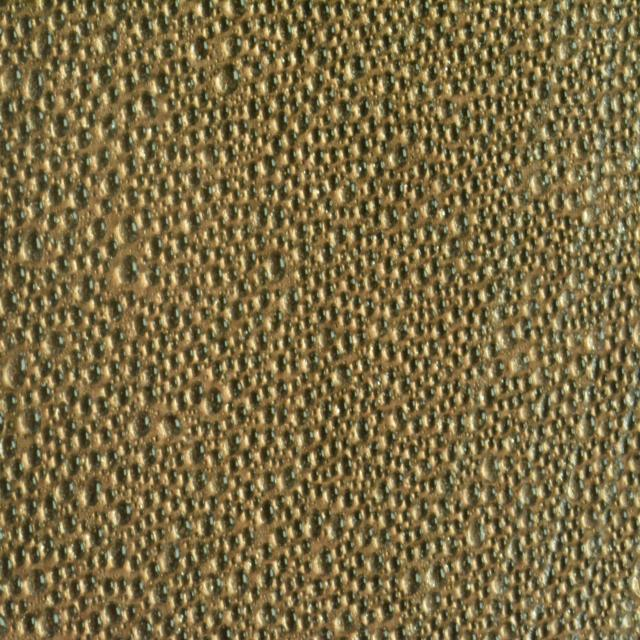dr: (6, 351, 28, 389), (24, 224, 44, 264), (118, 253, 140, 286), (39, 607, 61, 639), (217, 63, 240, 93), (118, 213, 139, 245), (229, 565, 249, 598), (138, 90, 160, 119), (22, 404, 42, 435), (36, 24, 53, 60), (163, 539, 181, 573), (267, 250, 286, 282), (28, 66, 44, 103), (100, 23, 119, 54), (3, 64, 24, 92), (426, 560, 446, 589), (132, 409, 152, 437), (530, 169, 550, 197), (491, 570, 512, 596), (25, 570, 47, 594), (0, 287, 18, 316), (109, 539, 127, 568), (482, 454, 500, 483), (162, 411, 182, 437), (174, 513, 194, 539), (498, 325, 518, 351), (468, 521, 487, 548), (85, 476, 102, 506), (103, 168, 121, 196), (205, 388, 223, 416), (404, 566, 422, 594), (389, 141, 407, 169), (587, 529, 604, 558), (520, 482, 538, 509), (203, 573, 224, 596), (307, 508, 322, 540), (317, 546, 334, 574), (51, 112, 70, 137), (46, 330, 65, 355), (104, 600, 123, 625), (100, 113, 118, 139), (114, 500, 132, 526), (0, 548, 13, 584), (470, 406, 488, 432), (72, 182, 89, 209), (224, 33, 243, 57), (58, 478, 77, 502), (587, 326, 606, 350), (42, 491, 57, 521), (135, 617, 154, 640), (559, 38, 578, 61), (200, 509, 215, 538), (29, 104, 47, 128), (90, 216, 108, 240), (164, 302, 180, 329), (259, 602, 277, 626), (439, 469, 455, 496), (392, 404, 408, 431), (278, 15, 293, 43), (284, 284, 299, 312), (509, 536, 524, 564), (18, 13, 34, 39), (138, 13, 154, 39), (155, 70, 171, 96), (79, 273, 95, 299), (108, 297, 124, 323), (10, 262, 26, 288), (568, 474, 584, 500), (350, 52, 366, 78), (211, 471, 229, 494), (333, 363, 351, 386), (0, 95, 14, 124), (194, 34, 209, 61), (280, 465, 296, 490), (1, 434, 17, 459), (581, 412, 597, 437), (339, 177, 355, 202), (258, 471, 277, 492), (423, 591, 442, 612), (201, 144, 219, 166), (254, 200, 268, 228), (260, 561, 274, 589), (62, 206, 79, 229), (330, 512, 345, 538), (383, 203, 398, 229), (174, 262, 190, 286), (190, 438, 206, 462), (153, 580, 169, 604), (338, 609, 354, 633), (464, 481, 480, 505), (271, 203, 285, 230), (454, 210, 468, 237), (27, 443, 42, 468), (191, 599, 206, 624), (333, 222, 348, 247), (225, 432, 242, 454), (525, 274, 542, 296), (545, 0, 562, 22), (308, 69, 325, 91), (260, 501, 276, 524), (66, 453, 82, 476), (160, 614, 176, 637), (376, 527, 392, 550), (356, 416, 370, 442), (48, 183, 63, 207), (189, 380, 204, 404), (88, 610, 103, 634), (359, 523, 374, 547), (565, 188, 580, 212), (604, 154, 622, 174), (574, 136, 589, 160), (602, 94, 614, 124), (403, 119, 418, 143), (97, 64, 113, 86), (76, 152, 92, 174), (94, 394, 110, 416), (22, 495, 38, 517), (8, 574, 24, 596), (21, 612, 37, 634), (413, 498, 429, 520), (582, 507, 598, 529), (602, 481, 618, 503), (20, 517, 33, 544), (366, 268, 379, 295), (458, 102, 471, 129), (17, 119, 31, 144), (296, 109, 310, 134), (458, 550, 472, 575), (0, 475, 12, 504), (66, 30, 81, 53), (136, 61, 151, 84), (34, 169, 49, 192), (142, 442, 157, 465), (3, 502, 18, 525), (535, 78, 550, 101), (1, 392, 18, 412), (592, 3, 609, 23), (149, 234, 162, 260), (284, 606, 297, 632), (501, 52, 514, 78), (76, 128, 92, 149), (159, 39, 175, 60), (168, 111, 184, 132), (134, 312, 148, 336), (210, 263, 224, 287), (86, 362, 102, 383), (269, 308, 283, 332), (40, 534, 54, 558), (610, 456, 624, 480), (539, 391, 551, 419), (452, 412, 466, 436), (534, 365, 550, 386), (592, 353, 604, 381), (550, 188, 564, 212), (320, 326, 336, 347), (381, 69, 395, 93), (125, 185, 140, 207), (254, 329, 269, 351), (111, 326, 126, 348), (126, 356, 141, 378), (481, 384, 496, 406), (338, 454, 353, 476), (518, 316, 533, 338), (414, 263, 429, 285), (561, 15, 576, 37), (528, 30, 543, 52), (412, 79, 427, 101), (411, 23, 426, 45), (316, 1, 331, 23), (10, 230, 23, 255), (568, 165, 585, 184), (123, 99, 137, 122), (156, 12, 170, 35), (185, 104, 199, 127), (297, 239, 311, 262), (146, 263, 160, 286), (68, 304, 82, 327), (192, 468, 206, 491), (507, 429, 521, 452), (336, 98, 350, 121), (446, 235, 460, 258), (111, 0, 127, 20), (263, 72, 279, 92), (62, 514, 78, 534), (554, 365, 570, 385), (584, 203, 600, 223), (438, 99, 454, 119), (142, 384, 157, 405), (130, 577, 145, 598), (368, 551, 383, 572), (437, 496, 452, 517), (570, 270, 585, 291), (346, 1, 361, 22), (96, 144, 109, 168), (139, 205, 152, 229), (270, 134, 283, 158), (245, 248, 258, 272), (262, 402, 275, 426), (275, 403, 288, 427), (195, 539, 208, 563), (573, 354, 586, 378), (340, 329, 353, 353), (52, 8, 66, 30), (122, 70, 136, 92), (48, 150, 62, 172), (60, 232, 74, 254), (62, 417, 76, 439), (106, 447, 120, 469), (11, 459, 25, 481), (90, 524, 104, 546), (520, 507, 534, 529), (521, 400, 535, 422), (376, 482, 390, 504), (356, 134, 370, 156), (378, 96, 392, 118), (528, 102, 542, 124), (314, 45, 328, 67), (229, 0, 247, 17), (585, 183, 602, 201), (436, 174, 453, 192), (30, 138, 46, 157), (446, 621, 462, 640), (632, 558, 640, 596), (556, 345, 572, 364), (30, 197, 45, 217), (119, 132, 134, 152), (223, 144, 238, 164), (186, 167, 201, 187), (64, 385, 79, 405), (77, 426, 90, 449), (555, 309, 568, 332), (262, 154, 276, 175), (199, 182, 213, 203), (294, 405, 308, 426), (220, 512, 234, 533), (140, 487, 154, 508), (552, 613, 566, 634), (614, 506, 628, 527), (620, 488, 634, 509), (319, 399, 333, 420), (305, 351, 319, 372), (615, 45, 629, 66), (214, 316, 230, 334), (176, 388, 188, 412), (302, 388, 314, 412), (313, 443, 325, 467), (604, 286, 616, 310), (560, 289, 576, 307), (624, 190, 640, 208), (452, 0, 470, 16), (64, 56, 77, 78), (0, 138, 13, 160), (247, 98, 260, 120), (89, 246, 102, 268), (248, 389, 261, 411), (116, 383, 129, 405), (215, 548, 228, 570), (96, 547, 109, 569), (543, 564, 556, 586), (321, 240, 334, 262), (575, 2, 588, 24), (143, 140, 158, 159), (483, 548, 498, 567), (406, 59, 421, 78), (321, 23, 336, 42), (4, 27, 18, 47), (78, 17, 92, 37), (157, 213, 171, 233), (56, 253, 70, 273), (11, 208, 25, 228), (187, 284, 201, 304), (274, 378, 288, 398), (228, 377, 242, 397), (241, 480, 255, 500), (208, 448, 222, 468), (470, 598, 484, 618), (382, 508, 396, 528), (490, 358, 504, 378), (397, 374, 411, 394), (461, 250, 475, 270), (452, 146, 466, 166), (418, 538, 430, 561), (0, 613, 11, 638), (63, 86, 76, 107), (11, 181, 24, 202), (187, 211, 200, 232), (88, 448, 101, 469), (72, 537, 85, 558), (311, 577, 324, 598), (381, 600, 394, 621), (501, 598, 514, 619), (500, 484, 513, 505), (585, 382, 598, 403), (627, 387, 640, 408), (518, 145, 531, 166), (506, 26, 519, 47), (414, 0, 430, 17), (501, 622, 516, 640), (530, 342, 545, 360), (1, 332, 15, 351), (38, 384, 52, 403), (350, 223, 364, 242), (354, 157, 368, 176), (448, 76, 462, 95), (0, 191, 12, 213), (258, 286, 270, 308), (79, 393, 91, 415), (291, 518, 303, 540), (14, 544, 26, 566), (619, 432, 631, 454), (446, 439, 457, 463), (426, 406, 438, 428), (326, 484, 338, 506), (371, 336, 382, 360), (614, 92, 626, 114), (356, 96, 368, 118), (392, 179, 404, 201), (406, 206, 418, 228), (426, 194, 437, 218), (78, 78, 91, 98), (106, 85, 119, 105), (197, 88, 210, 108), (156, 178, 169, 198), (220, 121, 233, 141), (165, 140, 178, 160), (217, 175, 230, 195), (31, 323, 44, 343), (39, 356, 52, 376), (105, 238, 118, 258), (189, 323, 202, 343), (230, 300, 243, 320), (281, 429, 294, 449), (242, 526, 255, 546), (98, 425, 111, 445), (147, 560, 160, 580), (2, 598, 15, 618), (445, 535, 458, 555), (572, 540, 585, 560), (472, 435, 485, 455), (458, 384, 471, 404), (384, 340, 397, 360), (486, 340, 499, 360), (627, 346, 640, 366), (552, 254, 565, 274), (535, 140, 548, 160), (435, 319, 448, 339), (450, 303, 463, 323), (321, 86, 334, 106), (443, 263, 456, 283), (422, 135, 435, 155), (513, 352, 529, 368), (90, 341, 105, 358), (276, 110, 288, 131), (247, 160, 259, 181), (236, 278, 248, 299), (299, 450, 311, 471), (83, 572, 97, 590), (101, 578, 115, 596), (49, 588, 63, 606), (373, 626, 391, 640), (552, 532, 564, 553), (624, 612, 638, 630), (600, 416, 612, 437), (563, 397, 577, 415), (368, 369, 382, 387), (616, 342, 628, 363), (603, 205, 615, 226), (614, 115, 628, 133), (484, 282, 496, 303), (388, 297, 400, 318), (401, 289, 413, 310), (366, 247, 378, 268), (576, 48, 590, 66), (424, 64, 438, 82), (0, 213, 10, 238), (124, 155, 137, 174), (99, 197, 112, 216), (43, 266, 56, 285), (253, 231, 266, 250), (295, 220, 308, 239), (240, 449, 253, 468), (426, 513, 439, 532), (489, 598, 502, 617), (519, 457, 532, 476), (618, 264, 631, 283), (381, 121, 394, 140), (116, 464, 127, 486), (277, 552, 288, 574), (16, 45, 28, 65), (44, 90, 56, 110), (294, 45, 306, 65), (296, 19, 308, 39), (176, 232, 188, 252), (46, 288, 58, 308), (98, 318, 110, 338), (41, 425, 53, 445), (302, 427, 314, 447), (51, 366, 63, 386), (129, 462, 141, 482), (24, 472, 36, 492), (172, 588, 184, 608), (230, 602, 242, 622), (356, 595, 368, 615), (538, 620, 550, 640), (483, 485, 498, 501), (592, 596, 604, 616), (573, 566, 585, 586), (410, 414, 422, 434), (520, 373, 532, 393), (568, 332, 583, 348), (494, 304, 509, 320), (603, 175, 618, 191), (591, 149, 606, 165), (375, 316, 387, 336), (396, 320, 408, 340), (477, 306, 489, 326), (434, 297, 446, 317), (416, 158, 428, 178), (544, 119, 556, 139), (396, 36, 408, 56), (82, 0, 96, 17), (201, 1, 215, 18), (217, 15, 231, 32), (156, 485, 170, 502), (301, 1, 314, 19), (251, 310, 264, 328), (68, 348, 81, 366), (263, 427, 276, 445), (190, 566, 203, 584), (370, 574, 383, 592), (533, 603, 546, 621), (498, 416, 511, 434), (341, 489, 354, 507), (554, 158, 567, 176), (435, 224, 448, 242), (183, 342, 194, 363), (236, 404, 247, 425), (212, 360, 223, 381), (525, 546, 536, 567), (625, 410, 636, 431), (328, 436, 339, 457), (357, 197, 368, 218), (619, 21, 630, 42), (300, 85, 312, 104), (275, 526, 287, 545), (459, 579, 471, 598), (584, 579, 596, 598), (392, 469, 404, 488), (335, 398, 347, 417), (468, 346, 480, 365), (628, 212, 640, 231), (627, 155, 639, 174), (364, 298, 376, 317), (494, 76, 506, 95), (554, 65, 566, 84), (484, 59, 496, 78), (515, 3, 527, 22), (356, 624, 371, 639), (217, 624, 231, 640), (613, 232, 627, 248), (476, 134, 490, 150), (614, 74, 628, 90), (530, 4, 544, 20), (274, 92, 287, 109), (13, 327, 26, 344), (383, 430, 396, 447), (328, 346, 341, 363), (396, 262, 409, 279), (382, 255, 395, 272), (15, 93, 26, 113), (146, 363, 157, 383), (69, 579, 80, 599), (574, 444, 584, 466), (630, 274, 640, 296), (618, 135, 629, 155), (323, 280, 334, 300), (352, 256, 363, 276), (373, 156, 384, 176), (429, 255, 440, 275), (449, 122, 460, 142), (457, 43, 468, 63), (6, 160, 18, 178), (46, 212, 58, 230), (286, 129, 298, 147), (168, 352, 180, 370), (196, 343, 208, 361), (217, 336, 229, 354), (290, 192, 302, 210), (125, 289, 137, 307), (275, 353, 287, 371), (116, 576, 128, 594), (154, 504, 166, 522), (184, 496, 196, 514), (151, 608, 163, 626), (211, 608, 223, 626), (389, 555, 401, 573), (391, 490, 403, 508), (558, 555, 570, 573), (533, 464, 545, 482), (385, 367, 397, 385), (427, 337, 439, 355), (592, 293, 604, 311), (615, 282, 627, 300), (548, 296, 560, 314), (344, 274, 356, 292), (312, 148, 324, 166), (335, 120, 347, 138), (458, 188, 470, 206), (469, 175, 481, 193), (511, 170, 523, 188), (434, 120, 446, 138), (366, 5, 378, 23), (258, 265, 268, 286), (418, 459, 432, 474), (526, 300, 540, 315), (608, 264, 618, 285), (610, 190, 624, 205), (277, 181, 288, 200), (205, 326, 216, 345), (130, 553, 141, 572), (227, 531, 238, 550), (513, 499, 524, 518), (577, 610, 588, 629), (560, 498, 571, 517), (603, 352, 614, 371), (531, 198, 542, 217), (166, 0, 179, 16), (145, 47, 158, 63), (195, 68, 208, 84), (536, 526, 549, 542), (552, 386, 565, 402), (382, 449, 395, 465), (451, 352, 464, 368), (619, 174, 632, 190), (524, 126, 537, 142), (583, 85, 596, 101), (75, 252, 87, 269), (188, 129, 200, 146), (251, 61, 263, 78), (236, 118, 248, 135), (290, 172, 302, 189), (108, 359, 120, 376), (259, 445, 271, 462), (491, 518, 503, 535), (602, 508, 614, 525), (408, 356, 420, 373), (614, 395, 626, 412), (623, 294, 635, 311), (580, 251, 592, 268), (519, 210, 531, 227), (552, 137, 564, 154), (355, 329, 367, 346), (354, 312, 366, 329), (413, 182, 425, 199), (476, 208, 488, 225), (626, 61, 638, 78), (610, 6, 622, 23), (58, 400, 68, 420), (238, 352, 248, 372), (248, 553, 258, 573), (606, 536, 616, 556), (519, 246, 529, 266), (342, 307, 352, 327), (423, 220, 433, 240), (630, 16, 640, 36), (1, 48, 12, 66), (171, 188, 182, 206), (289, 97, 300, 115), (300, 142, 311, 160), (163, 244, 174, 262), (199, 246, 210, 264), (241, 201, 252, 219), (246, 276, 257, 294), (228, 456, 239, 474), (300, 478, 311, 496), (354, 549, 365, 567), (362, 502, 373, 520), (588, 561, 599, 579), (573, 589, 584, 607), (629, 453, 640, 471), (588, 483, 599, 501), (532, 441, 543, 459), (324, 377, 335, 395), (400, 344, 411, 362), (545, 328, 556, 346), (511, 228, 522, 246), (507, 208, 518, 226), (593, 165, 604, 183), (312, 218, 323, 236), (309, 94, 320, 112), (366, 176, 377, 194), (406, 228, 417, 246), (472, 114, 483, 132), (495, 96, 506, 114), (594, 69, 605, 87), (581, 22, 592, 40), (432, 20, 443, 38), (488, 502, 502, 516), (394, 625, 407, 640), (584, 278, 597, 293), (516, 190, 529, 205), (604, 25, 617, 40), (78, 60, 90, 76), (179, 58, 191, 74), (178, 146, 190, 162), (280, 165, 292, 181), (226, 204, 238, 220), (32, 296, 44, 312), (263, 181, 275, 197), (240, 323, 252, 339), (56, 308, 68, 324), (247, 428, 259, 444), (169, 496, 181, 512), (110, 413, 122, 429), (64, 562, 76, 578), (74, 618, 86, 634), (548, 420, 560, 436), (508, 375, 520, 391), (540, 310, 552, 326), (512, 270, 524, 286), (616, 216, 628, 232), (596, 134, 608, 150), (595, 120, 607, 136), (304, 331, 316, 347), (323, 126, 335, 142), (604, 60, 616, 76), (606, 40, 618, 56), (430, 82, 442, 98), (435, 1, 447, 17), (145, 529, 155, 548), (57, 543, 67, 562), (311, 125, 321, 144), (50, 56, 61, 73), (16, 147, 27, 164), (121, 49, 132, 66), (206, 108, 217, 125), (256, 13, 267, 30), (259, 38, 270, 55), (219, 103, 230, 120), (158, 331, 169, 348), (182, 309, 193, 326), (49, 467, 60, 484), (30, 547, 41, 564), (261, 543, 272, 560), (461, 438, 472, 455), (564, 424, 575, 441), (440, 413, 451, 430), (545, 211, 556, 228), (373, 229, 384, 246), (372, 194, 383, 211), (447, 10, 458, 27), (357, 23, 368, 40), (381, 33, 392, 50), (175, 626, 189, 639), (318, 626, 331, 640), (86, 109, 96, 127), (91, 92, 101, 110), (60, 140, 70, 158), (281, 50, 291, 68), (152, 159, 164, 174), (20, 310, 30, 328), (252, 350, 262, 368), (296, 265, 308, 280), (153, 314, 163, 332), (23, 390, 35, 405), (105, 487, 115, 505), (52, 565, 62, 583), (356, 574, 366, 592), (352, 509, 362, 527), (484, 630, 502, 640), (550, 585, 560, 603), (511, 584, 521, 602), (541, 480, 551, 498), (542, 229, 552, 247), (316, 306, 326, 324), (490, 258, 500, 276), (461, 287, 471, 305), (312, 269, 322, 287), (366, 115, 376, 133), (486, 114, 496, 132), (526, 70, 536, 88), (557, 89, 569, 104), (63, 172, 74, 188), (136, 123, 147, 139), (183, 77, 194, 93), (204, 22, 215, 38), (80, 236, 91, 252), (148, 124, 159, 140), (275, 232, 286, 248), (71, 366, 82, 382), (200, 421, 211, 437), (167, 468, 178, 484), (67, 604, 78, 620), (301, 539, 312, 555), (474, 553, 485, 569), (452, 519, 463, 535), (545, 504, 556, 520), (535, 424, 546, 440), (434, 433, 445, 449), (382, 387, 393, 403), (361, 382, 372, 398), (358, 356, 369, 372), (612, 304, 623, 320), (501, 286, 512, 302), (475, 326, 486, 342), (475, 265, 486, 281), (328, 146, 339, 162), (466, 77, 477, 93), (333, 1, 344, 17), (98, 275, 108, 292), (50, 521, 60, 538), (184, 551, 194, 568), (284, 576, 294, 593), (295, 570, 305, 587), (345, 588, 355, 605), (484, 612, 494, 629), (413, 525, 423, 542), (531, 574, 541, 591), (428, 475, 438, 492), (408, 472, 418, 489), (614, 247, 624, 264), (498, 225, 508, 242), (472, 289, 482, 306), (387, 232, 397, 249), (508, 145, 518, 162), (464, 21, 474, 38), (362, 37, 372, 54), (424, 386, 436, 400), (134, 46, 145, 61), (240, 222, 251, 237), (25, 280, 36, 295), (216, 294, 227, 309), (78, 596, 89, 611), (126, 605, 137, 620), (557, 516, 568, 531), (498, 377, 509, 392), (361, 463, 372, 478), (347, 388, 358, 403), (421, 356, 432, 371), (441, 341, 452, 356), (566, 379, 577, 394), (537, 251, 548, 266), (581, 226, 592, 241), (627, 104, 638, 119), (503, 115, 514, 130), (575, 102, 586, 117), (515, 608, 524, 626), (606, 594, 615, 612), (74, 103, 84, 119), (171, 209, 181, 225), (172, 168, 182, 184), (248, 34, 258, 50), (262, 104, 272, 120), (286, 148, 296, 164), (160, 286, 170, 302), (206, 225, 216, 241), (226, 268, 236, 284), (0, 239, 8, 259), (145, 338, 155, 354), (88, 310, 98, 326), (104, 381, 114, 397), (232, 330, 242, 346), (208, 495, 218, 511), (292, 322, 302, 338), (290, 358, 300, 374), (275, 493, 285, 509), (155, 525, 165, 541), (54, 450, 64, 466), (8, 525, 18, 541), (134, 518, 144, 534), (180, 570, 190, 586), (291, 490, 301, 506), (85, 554, 95, 570), (330, 593, 340, 609), (334, 573, 344, 589), (346, 566, 356, 582), (430, 616, 440, 632), (461, 630, 477, 640), (433, 537, 443, 553), (457, 456, 467, 472), (512, 469, 522, 485), (504, 454, 514, 470), (564, 576, 574, 592), (596, 456, 606, 472), (408, 442, 418, 458), (451, 378, 461, 394), (318, 424, 328, 440), (543, 281, 553, 297), (506, 253, 516, 269), (328, 304, 338, 320), (463, 325, 473, 341), (465, 308, 475, 324), (310, 288, 320, 304), (347, 83, 357, 99), (418, 243, 428, 259), (432, 280, 442, 296), (484, 227, 494, 243), (508, 128, 518, 144), (552, 104, 562, 120), (572, 117, 582, 133), (628, 88, 638, 104), (477, 33, 487, 49), (488, 0, 498, 16), (443, 32, 453, 48), (64, 1, 76, 14), (528, 626, 540, 639), (240, 20, 251, 34), (223, 252, 234, 266), (0, 525, 7, 547), (411, 618, 422, 632), (481, 570, 492, 584), (526, 237, 537, 251), (470, 235, 481, 249), (565, 76, 576, 90), (547, 28, 558, 42), (268, 19, 277, 36), (511, 519, 520, 536), (598, 439, 607, 456), (369, 441, 378, 458), (547, 349, 556, 366), (372, 210, 381, 227), (632, 174, 640, 193), (24, 164, 34, 179), (168, 59, 178, 74), (144, 188, 154, 203), (203, 126, 213, 141), (280, 70, 290, 85), (155, 349, 165, 364), (211, 421, 221, 436), (140, 547, 150, 562), (32, 348, 42, 363), (14, 486, 24, 501), (186, 587, 196, 602), (366, 609, 376, 624), (403, 528, 413, 543), (523, 530, 533, 545), (598, 567, 608, 582), (583, 463, 593, 478), (314, 483, 324, 498), (358, 398, 368, 413), (609, 380, 619, 395), (614, 365, 624, 380), (635, 316, 640, 346), (574, 299, 584, 314), (592, 224, 602, 239), (414, 322, 424, 337), (416, 304, 426, 319), (339, 291, 349, 306), (316, 182, 326, 197), (328, 173, 338, 188), (378, 139, 388, 154), (498, 243, 508, 258), (441, 204, 451, 219), (582, 115, 592, 130), (590, 102, 600, 117), (584, 66, 594, 81), (544, 45, 554, 60), (514, 49, 524, 64), (424, 36, 434, 51), (282, 0, 297, 10), (39, 0, 55, 9), (248, 183, 257, 199), (227, 225, 236, 241), (70, 328, 79, 344), (176, 452, 185, 468), (405, 546, 414, 562), (441, 380, 450, 396), (609, 334, 618, 350), (625, 322, 633, 340), (572, 238, 584, 250), (496, 276, 505, 292), (352, 295, 361, 311), (350, 120, 359, 136), (381, 179, 390, 195), (428, 162, 437, 178), (480, 78, 489, 94), (486, 44, 495, 60), (383, 6, 392, 22), (401, 18, 410, 34), (264, 1, 275, 14), (44, 312, 55, 325), (545, 437, 556, 450), (556, 330, 567, 343), (97, 0, 107, 14), (186, 12, 196, 26), (260, 132, 270, 146), (186, 196, 196, 210), (147, 300, 157, 314), (163, 273, 173, 287), (217, 216, 227, 230), (191, 362, 201, 376), (78, 338, 88, 352), (85, 326, 95, 340), (199, 307, 209, 321), (180, 484, 190, 498), (104, 625, 114, 639), (18, 599, 28, 613), (178, 609, 188, 623), (320, 610, 330, 624), (344, 539, 354, 553), (394, 541, 404, 555), (401, 509, 411, 523), (498, 536, 508, 550), (604, 630, 618, 640), (612, 615, 622, 629), (625, 596, 635, 610), (608, 578, 618, 592), (628, 534, 638, 548), (629, 516, 639, 530), (434, 451, 444, 465), (340, 436, 350, 450), (533, 327, 543, 341), (576, 388, 586, 402), (633, 367, 640, 387), (333, 263, 343, 277), (489, 212, 499, 226), (496, 198, 506, 212), (434, 140, 444, 154), (480, 166, 490, 180), (484, 95, 494, 109), (570, 90, 580, 104), (398, 76, 408, 90), (305, 33, 315, 47), (368, 54, 378, 68), (624, 368, 632, 385), (506, 190, 514, 207), (516, 80, 524, 97), (125, 15, 134, 30), (109, 51, 118, 66), (141, 161, 150, 176), (249, 128, 258, 143), (303, 183, 312, 198), (130, 339, 139, 354), (90, 418, 99, 433), (117, 428, 126, 443), (258, 625, 267, 640), (301, 613, 310, 628), (561, 594, 570, 609), (513, 569, 522, 584), (406, 397, 415, 412), (375, 409, 384, 424), (397, 242, 406, 257), (475, 151, 484, 166), (520, 97, 529, 112), (561, 115, 570, 130), (604, 76, 613, 91), (337, 72, 346, 87), (266, 52, 277, 64), (458, 612, 469, 624), (524, 595, 535, 607), (475, 363, 486, 375), (634, 138, 640, 160), (563, 0, 575, 11), (166, 98, 176, 111), (36, 467, 46, 480), (142, 470, 152, 483), (250, 587, 260, 600), (388, 575, 398, 588), (552, 406, 562, 419), (490, 410, 500, 423), (393, 456, 403, 469), (444, 365, 454, 378), (464, 368, 474, 381), (320, 470, 330, 483), (349, 444, 359, 457), (628, 238, 638, 251), (556, 229, 566, 242), (514, 65, 524, 78), (492, 27, 502, 40), (208, 539, 216, 555), (608, 558, 616, 574), (322, 112, 330, 128), (457, 172, 465, 188), (425, 119, 433, 135), (610, 0, 626, 8), (5, 10, 14, 24), (84, 43, 93, 57), (241, 53, 250, 67), (237, 139, 246, 153), (146, 172, 155, 186), (232, 188, 241, 202), (102, 258, 111, 272), (215, 246, 224, 260), (242, 374, 251, 388), (118, 347, 127, 361), (131, 380, 140, 394), (180, 370, 189, 384), (283, 319, 292, 333), (303, 316, 312, 330), (302, 300, 311, 314), (230, 487, 239, 501), (123, 440, 132, 454), (161, 444, 170, 458), (181, 469, 190, 483), (70, 499, 79, 513), (284, 506, 293, 520), (274, 587, 283, 601), (309, 599, 318, 613), (390, 590, 399, 604), (439, 608, 448, 622), (455, 596, 464, 610), (473, 578, 482, 592), (588, 629, 602, 638), (597, 582, 606, 596), (559, 468, 568, 482), (403, 458, 412, 472), (438, 398, 447, 412), (357, 490, 366, 504), (310, 468, 319, 482), (375, 465, 384, 479), (315, 384, 324, 398), (605, 398, 614, 412), (578, 314, 587, 328), (592, 262, 601, 276), (620, 200, 629, 214), (608, 139, 617, 153), (586, 129, 595, 143), (323, 266, 332, 280), (415, 289, 424, 303), (338, 205, 347, 219), (342, 144, 351, 158), (489, 174, 498, 188), (502, 162, 511, 176), (497, 41, 506, 55), (499, 14, 508, 28), (329, 46, 338, 60), (59, 282, 70, 293), (130, 33, 140, 45), (172, 87, 182, 99), (249, 80, 257, 95), (202, 206, 210, 221), (46, 404, 56, 416), (262, 385, 270, 400), (283, 333, 291, 348), (291, 377, 299, 392), (235, 502, 243, 517), (52, 436, 62, 448), (334, 543, 344, 555), (437, 625, 445, 640), (548, 551, 558, 563), (626, 470, 634, 485), (634, 429, 640, 449), (558, 441, 566, 456), (496, 436, 504, 451), (330, 462, 338, 477), (602, 228, 612, 240), (562, 215, 572, 227), (340, 248, 348, 263), (326, 217, 334, 232), (460, 272, 470, 284), (471, 98, 481, 110), (626, 2, 634, 17), (177, 15, 186, 28), (238, 177, 247, 190), (210, 97, 219, 110), (210, 202, 219, 215), (265, 370, 274, 383), (225, 416, 234, 429), (226, 357, 235, 370), (300, 372, 309, 385), (223, 498, 232, 511), (244, 602, 253, 615), (277, 624, 286, 637), (446, 560, 455, 573), (521, 608, 530, 621), (589, 616, 598, 629), (615, 527, 624, 540), (487, 437, 496, 450), (506, 396, 515, 409), (418, 480, 427, 493), (318, 366, 327, 379), (414, 377, 423, 390), (427, 307, 436, 320), (364, 233, 373, 246), (343, 160, 352, 173), (474, 51, 483, 64), (90, 172, 98, 186), (252, 0, 260, 14), (292, 70, 300, 84), (95, 294, 103, 308), (191, 241, 199, 255), (160, 368, 168, 382), (247, 298, 255, 312), (288, 212, 296, 226), (166, 390, 173, 406), (240, 548, 248, 562), (0, 318, 8, 332), (107, 520, 115, 534), (80, 517, 88, 531), (145, 513, 153, 527), (304, 558, 312, 572), (144, 595, 152, 609), (292, 592, 300, 606), (338, 559, 346, 573), (405, 494, 413, 508), (454, 498, 462, 512), (618, 558, 626, 572), (566, 528, 574, 542), (572, 504, 580, 518), (543, 451, 551, 465), (516, 392, 524, 406), (448, 395, 456, 409), (371, 424, 379, 438), (415, 341, 423, 355), (511, 302, 519, 316), (452, 329, 460, 343), (453, 282, 461, 296), (499, 184, 507, 198), (416, 104, 424, 118), (540, 62, 548, 76), (509, 4, 516, 20), (499, 0, 507, 14), (397, 6, 405, 20), (329, 64, 337, 78), (168, 377, 178, 388), (568, 226, 578, 237), (375, 20, 385, 31), (340, 43, 350, 54), (374, 45, 384, 56), (22, 296, 31, 308), (255, 372, 264, 384), (200, 622, 209, 634), (223, 596, 232, 608), (482, 585, 491, 597), (505, 558, 514, 570), (463, 466, 472, 478), (594, 403, 603, 415), (603, 252, 612, 264), (522, 228, 531, 240), (607, 126, 616, 138), (353, 244, 362, 256), (496, 151, 505, 163), (494, 129, 503, 141), (589, 37, 598, 49), (467, 42, 476, 54), (635, 486, 640, 507), (136, 174, 144, 187), (173, 74, 181, 87), (29, 374, 37, 387), (234, 242, 242, 255), (197, 497, 205, 510), (291, 445, 299, 458), (134, 537, 142, 550), (159, 458, 167, 471), (126, 526, 134, 539), (288, 544, 296, 557), (372, 510, 380, 523), (566, 606, 574, 619), (577, 527, 585, 540), (497, 399, 505, 412), (417, 397, 425, 410), (332, 416, 340, 429), (344, 418, 352, 431), (369, 399, 377, 412), (461, 342, 469, 355), (600, 375, 608, 388), (569, 317, 577, 330), (627, 124, 635, 137), (584, 161, 592, 174), (305, 206, 313, 219), (378, 286, 386, 299), (370, 134, 378, 147), (406, 180, 414, 193), (407, 167, 415, 180), (393, 109, 401, 122), (447, 191, 455, 204), (444, 146, 452, 159), (486, 148, 494, 161), (445, 65, 453, 78), (414, 46, 422, 59), (484, 18, 492, 31), (476, 11, 484, 24), (610, 322, 620, 332), (148, 1, 157, 12), (190, 425, 199, 436), (299, 505, 308, 516), (536, 512, 545, 523), (574, 216, 583, 227), (407, 312, 416, 323), (324, 198, 333, 209), (594, 55, 603, 66), (393, 59, 402, 70), (0, 262, 7, 276), (171, 337, 178, 351), (626, 550, 633, 564), (633, 46, 640, 60), (237, 103, 245, 115), (287, 239, 295, 251), (138, 296, 146, 308), (29, 267, 37, 279), (65, 439, 73, 451), (152, 472, 160, 484), (172, 574, 180, 586), (274, 575, 282, 587), (294, 556, 302, 568), (348, 527, 356, 539), (446, 594, 454, 606), (442, 520, 450, 532), (520, 622, 528, 634), (524, 568, 532, 580), (536, 555, 544, 567), (622, 576, 630, 588), (599, 501, 607, 513), (586, 448, 594, 460), (567, 442, 575, 454), (614, 428, 620, 444), (616, 415, 624, 427), (526, 426, 534, 438), (572, 412, 580, 424), (398, 441, 406, 453), (424, 447, 432, 459), (588, 303, 596, 315), (561, 276, 569, 288), (573, 255, 581, 267), (358, 280, 366, 292), (384, 275, 392, 287), (393, 279, 401, 291), (303, 168, 311, 180), (481, 252, 489, 264), (405, 101, 413, 113), (506, 82, 514, 94), (595, 26, 603, 38), (531, 56, 539, 68), (446, 51, 454, 63), (408, 11, 416, 23), (272, 339, 279, 352), (615, 600, 622, 613), (599, 389, 606, 402), (429, 243, 436, 256), (513, 97, 520, 110), (391, 21, 398, 34), (629, 631, 639, 640), (483, 429, 492, 439), (432, 374, 441, 384), (515, 290, 524, 300), (403, 0, 413, 9), (14, 1, 22, 12), (301, 284, 309, 295), (289, 346, 297, 357), (244, 617, 252, 628), (394, 523, 402, 534), (482, 512, 490, 523), (462, 509, 470, 520), (543, 543, 551, 554), (597, 472, 605, 483), (518, 420, 526, 431), (416, 436, 424, 447), (548, 271, 556, 282), (564, 260, 572, 271), (536, 224, 544, 235), (544, 200, 552, 211), (426, 322, 434, 333), (312, 199, 320, 210), (388, 168, 396, 179), (478, 192, 486, 203), (416, 119, 424, 130), (338, 19, 346, 30), (289, 85, 296, 97), (199, 273, 206, 285), (178, 328, 185, 340), (207, 292, 214, 304), (274, 288, 281, 300), (228, 400, 235, 412), (245, 508, 252, 520), (400, 599, 407, 611), (415, 602, 422, 614), (600, 616, 607, 628), (600, 554, 607, 566), (619, 539, 626, 551), (491, 424, 498, 436), (554, 240, 561, 252), (348, 207, 355, 219), (448, 162, 455, 174), (466, 164, 472, 178), (470, 64, 477, 76), (180, 97, 188, 107), (571, 519, 579, 529), (524, 438, 532, 448), (423, 372, 431, 382), (594, 314, 602, 324), (630, 261, 638, 271), (588, 240, 596, 250), (314, 170, 322, 180), (467, 135, 475, 145), (526, 88, 534, 98), (598, 44, 606, 54), (460, 68, 468, 78), (431, 52, 439, 62), (346, 26, 354, 36), (180, 44, 188, 54), (554, 458, 560, 471), (518, 119, 524, 132), (568, 621, 575, 632), (584, 559, 591, 570), (351, 361, 358, 372), (436, 360, 443, 371), (378, 301, 385, 312), (408, 253, 415, 264), (396, 122, 403, 133), (427, 101, 434, 112), (567, 62, 574, 73), (339, 57, 346, 68), (635, 73, 640, 88), (177, 30, 185, 39), (271, 454, 277, 466), (552, 476, 558, 488), (558, 483, 564, 495), (564, 454, 570, 466), (527, 263, 535, 272), (602, 270, 608, 282), (444, 286, 450, 298), (239, 630, 246, 640), (571, 633, 581, 640), (468, 147, 475, 157), (501, 139, 508, 149), (524, 52, 531, 62), (471, 619, 477, 630), (620, 588, 626, 599), (596, 249, 602, 260), (489, 246, 495, 257), (490, 192, 496, 203), (492, 163, 498, 174), (424, 51, 430, 62), (192, 631, 199, 640), (407, 608, 414, 617), (619, 633, 628, 640), (555, 282, 562, 291), (626, 252, 633, 261), (560, 244, 567, 253), (483, 182, 490, 191), (479, 0, 486, 9), (274, 444, 280, 454), (313, 616, 319, 626), (612, 446, 618, 456), (590, 439, 596, 449), (350, 406, 356, 416), (358, 374, 364, 384), (600, 282, 606, 292), (566, 251, 572, 261), (405, 198, 411, 208), (336, 34, 342, 44), (503, 473, 509, 482), (506, 104, 512, 113), (577, 80, 583, 89), (372, 74, 378, 83), (408, 596, 413, 606), (292, 11, 298, 19), (586, 294, 592, 302), (230, 104, 236, 112), (439, 161, 444, 170)
